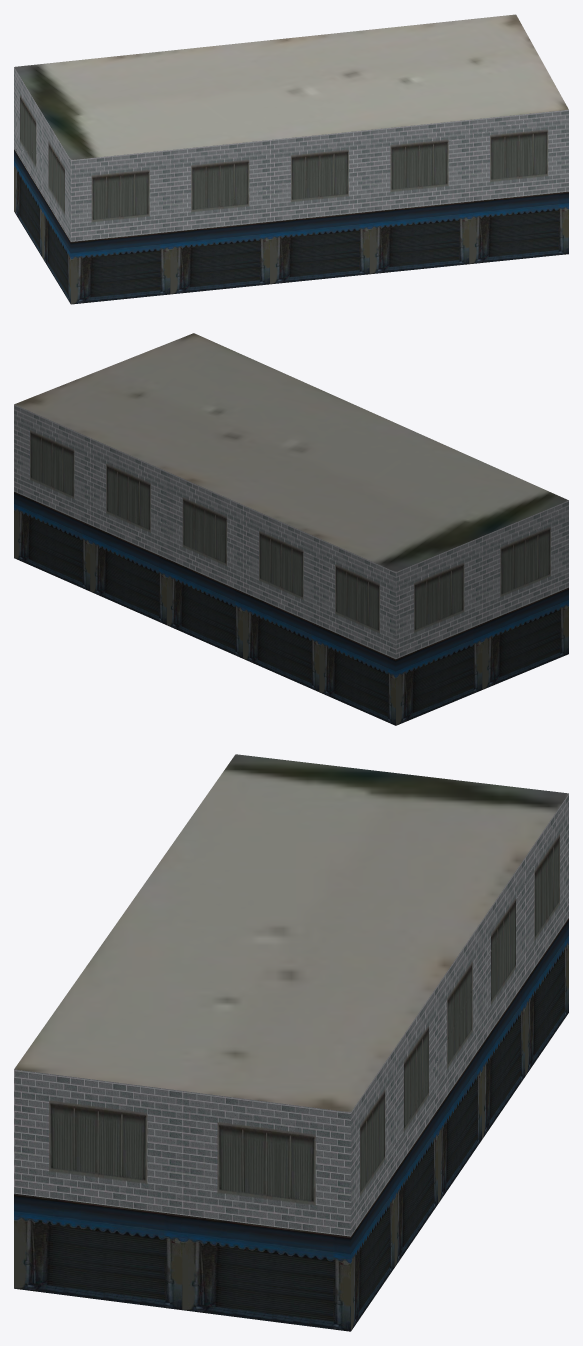
File: T_1T3WX4NVH8.dae
3 views of the same model, one above another, from view 1: azimuth 30°, elevation 25°; view 2: azimuth 150°, elevation 25°; view 3: azimuth 270°, elevation 25° (orthographic). The views are drawn at different scales.
Visible parts, largest first — view 1: SketchUp (×5); view 2: SketchUp (×5); view 3: SketchUp (×5).
Boxes of the visible parts, bbox=[...] form: SketchUp (×5): bbox=[14, 14, 568, 304]; SketchUp (×5): bbox=[14, 333, 568, 725]; SketchUp (×5): bbox=[14, 754, 568, 1331].
Size of the model in its own units: 26.65 by 17.45 by 7.61.
3 materials, 3 textured.
